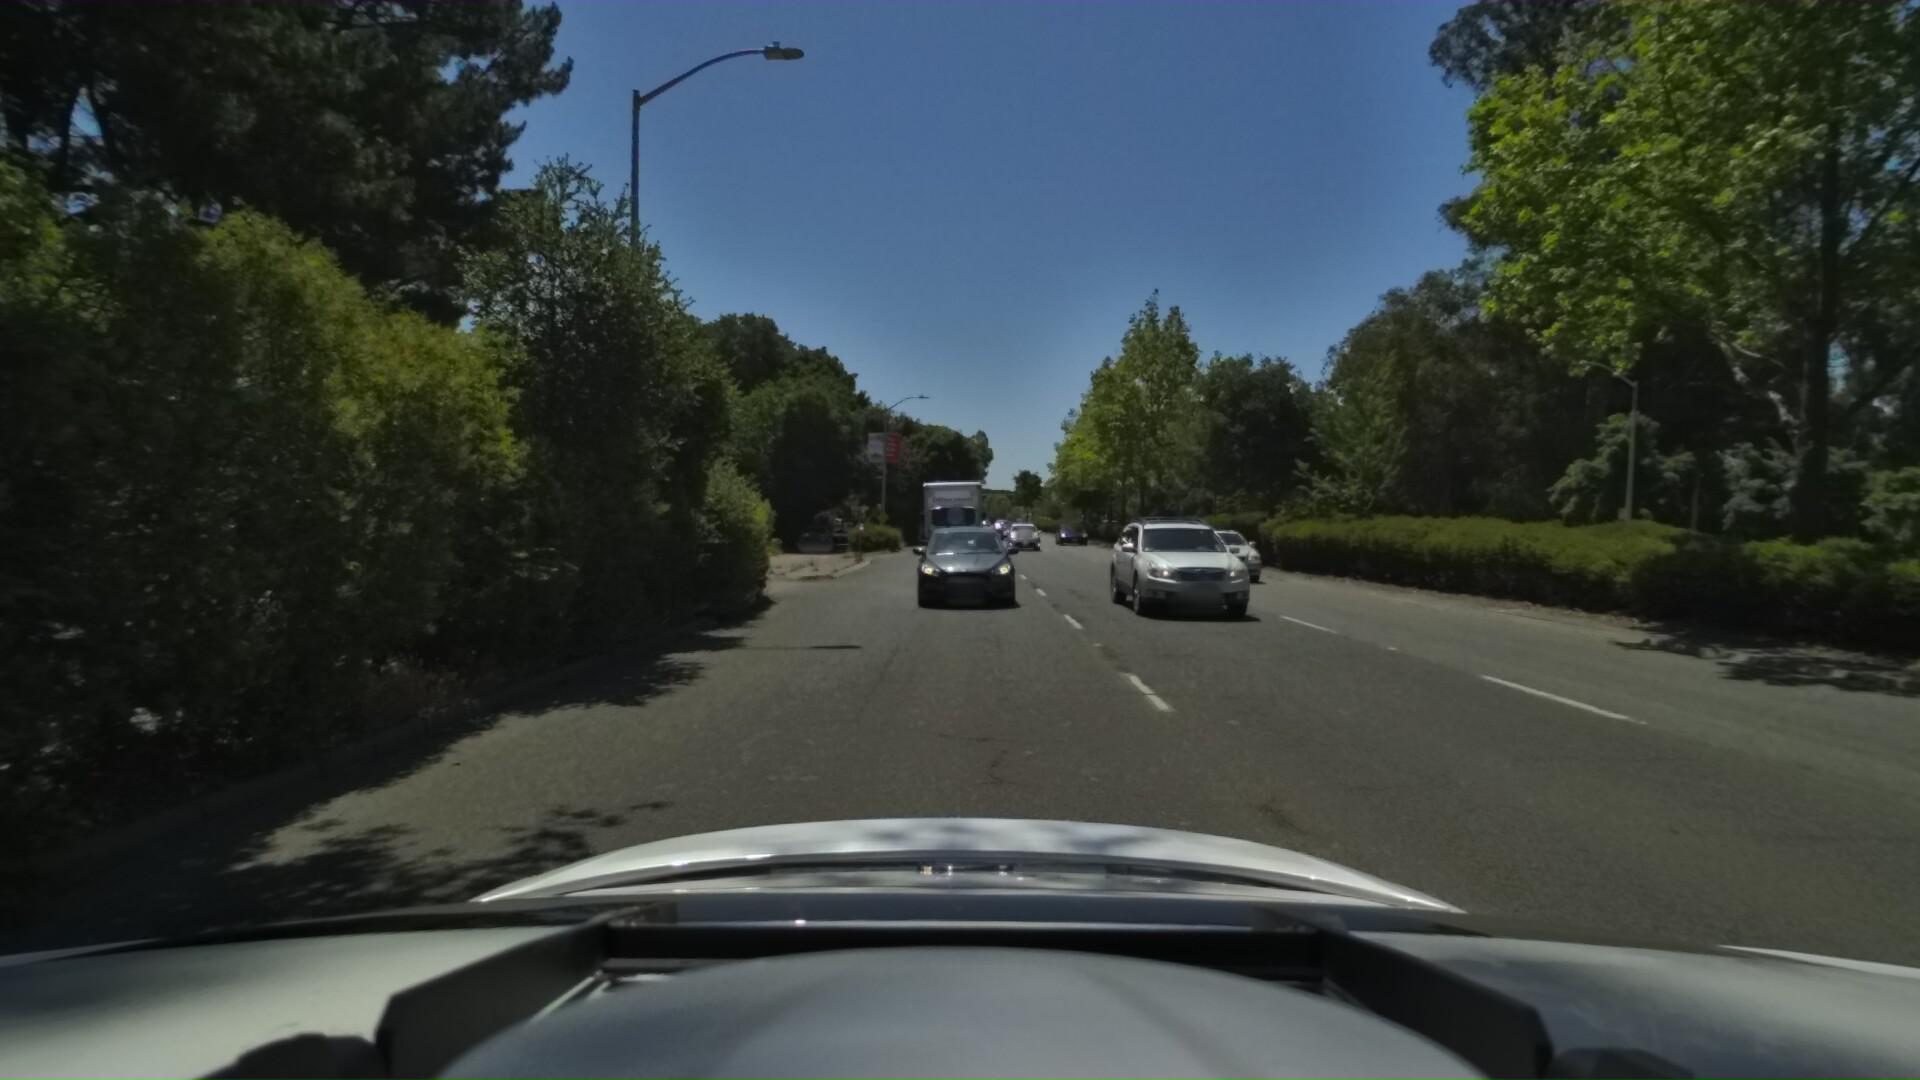car: (1095, 514, 1240, 618), (913, 524, 1019, 615), (1170, 522, 1273, 582), (796, 521, 835, 553), (1004, 517, 1042, 549), (1051, 520, 1087, 545), (824, 524, 857, 547)
truck: (914, 467, 985, 553)
